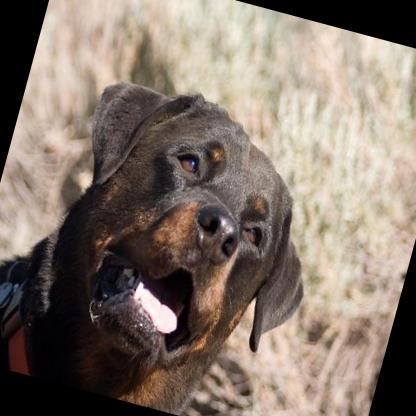Rottweiler: (0, 49, 345, 416)
